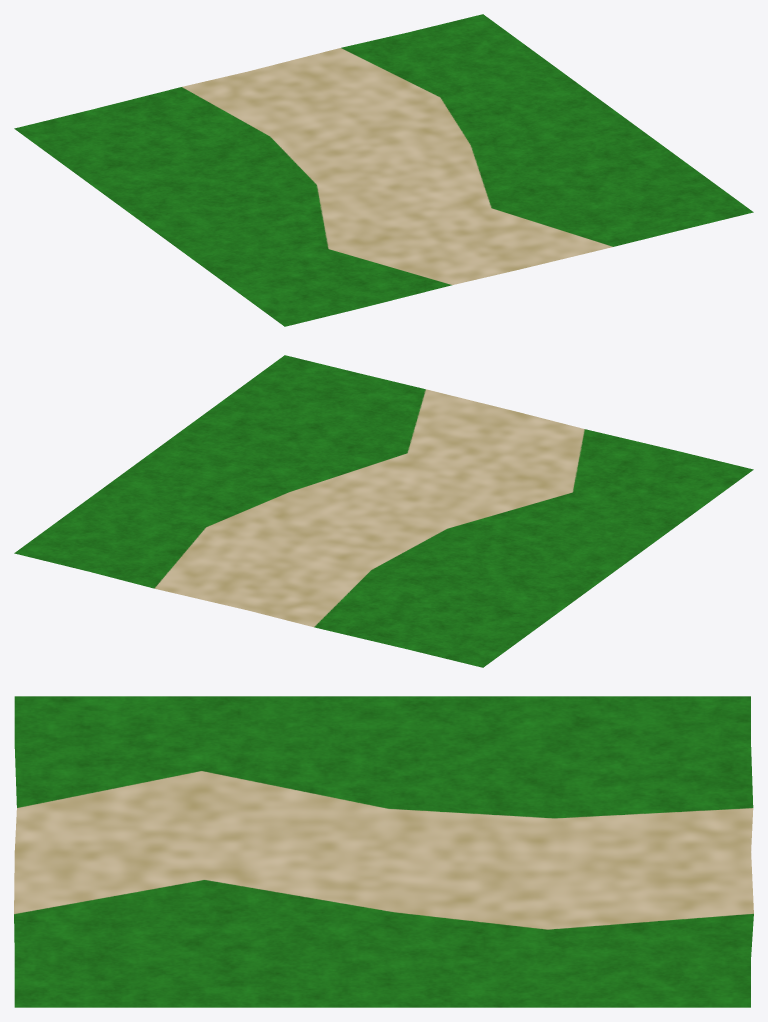
File: Floor.fbx
3 views of the same model, one above another, from view 1: azimuth 30°, elevation 25°; view 2: azimuth 150°, elevation 25°; view 3: azimuth 270°, elevation 25° (orthographic). The views are drawn at different scales.
Visible parts, largest first — view 1: Floor Grass; view 2: Floor Grass; view 3: Floor Grass.
Boxes of the visible parts, box(x1,y1,x2,y2) form: Floor Grass: box(14, 14, 753, 326); Floor Grass: box(14, 355, 753, 667); Floor Grass: box(14, 696, 753, 1007).
Size of the model in its own units: 5 by 5.02 by 0.
Materials: 1 (1 with a texture image).
